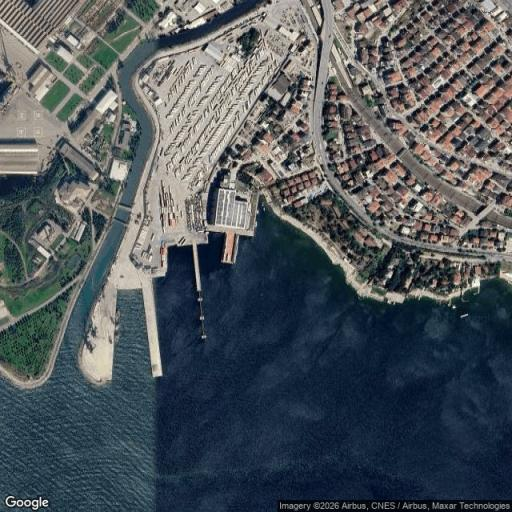ship: (116, 309, 122, 344), (457, 313, 473, 319)
